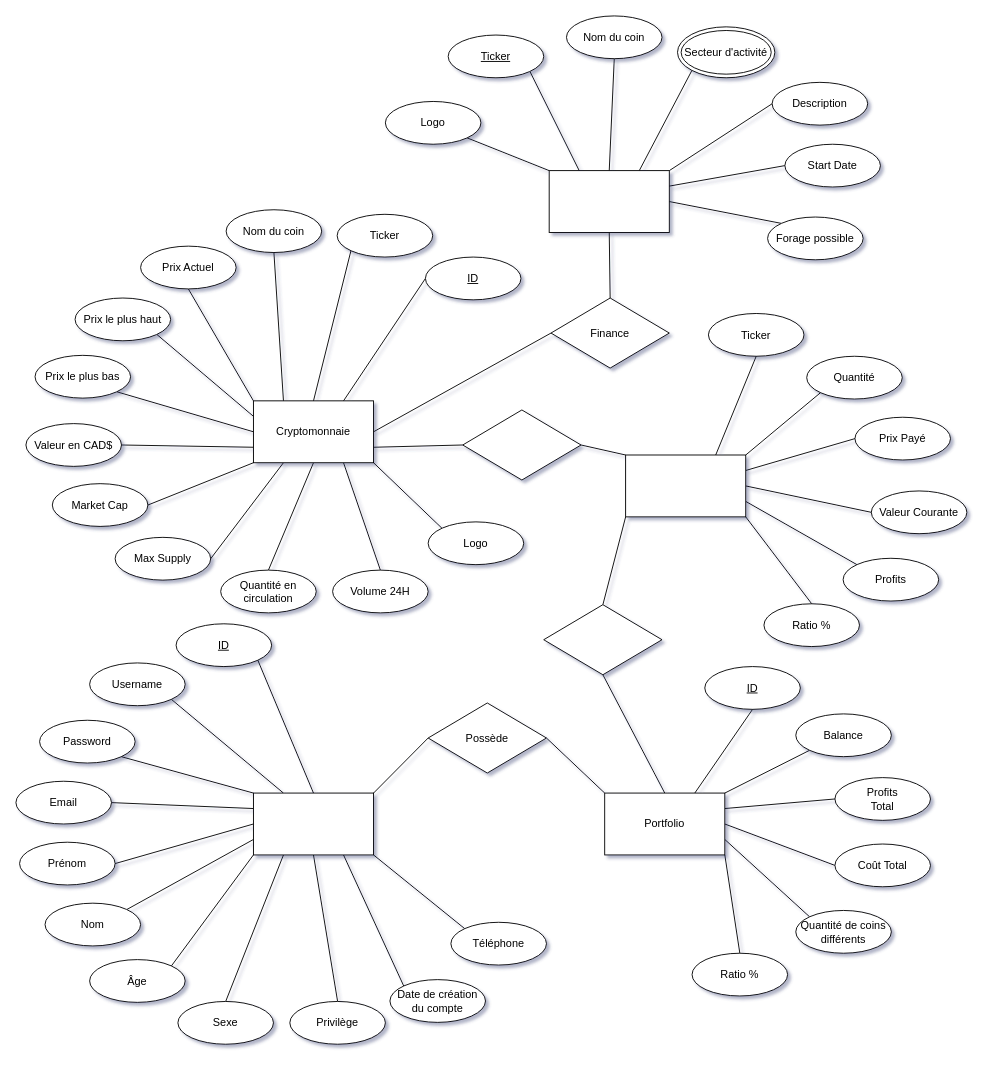
Some shapes in this 988 by 1066 pixel diagram are drawn without their labels. Each missing label, with the centre of its shape:
Contient: point (602, 639)
Est: point (521, 444)
Projet: point (608, 201)
Titre: point (685, 485)
Utilisateur: point (313, 823)
